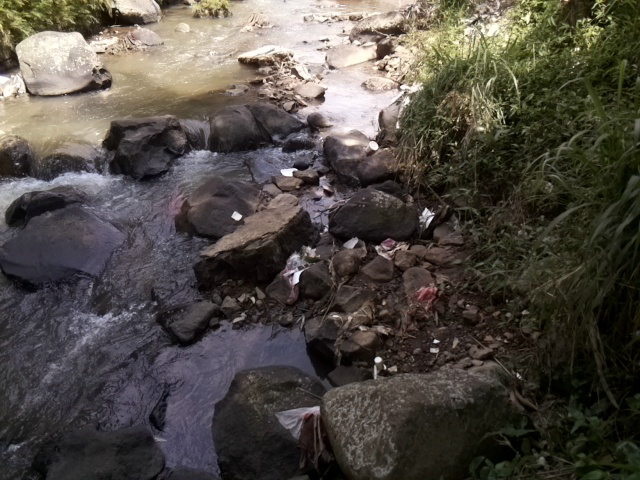Sampah_Plastik: (273, 405, 335, 470), (279, 244, 322, 308), (410, 282, 440, 316), (373, 237, 409, 262)
Sampah_Styrofoam: (418, 205, 434, 235), (342, 235, 367, 251), (364, 138, 380, 161), (371, 354, 387, 376), (279, 167, 299, 177), (229, 208, 243, 222)
